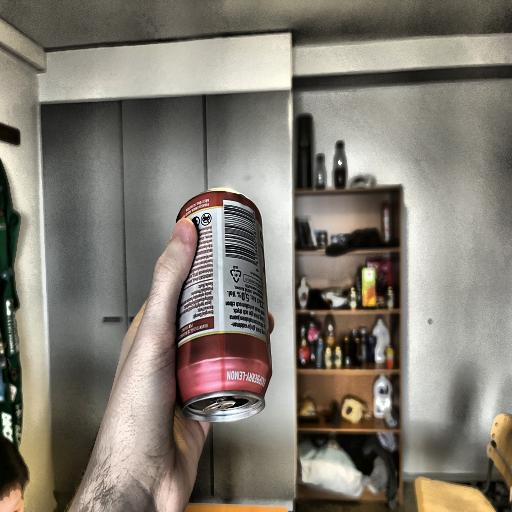koff: (172, 189, 277, 424)
